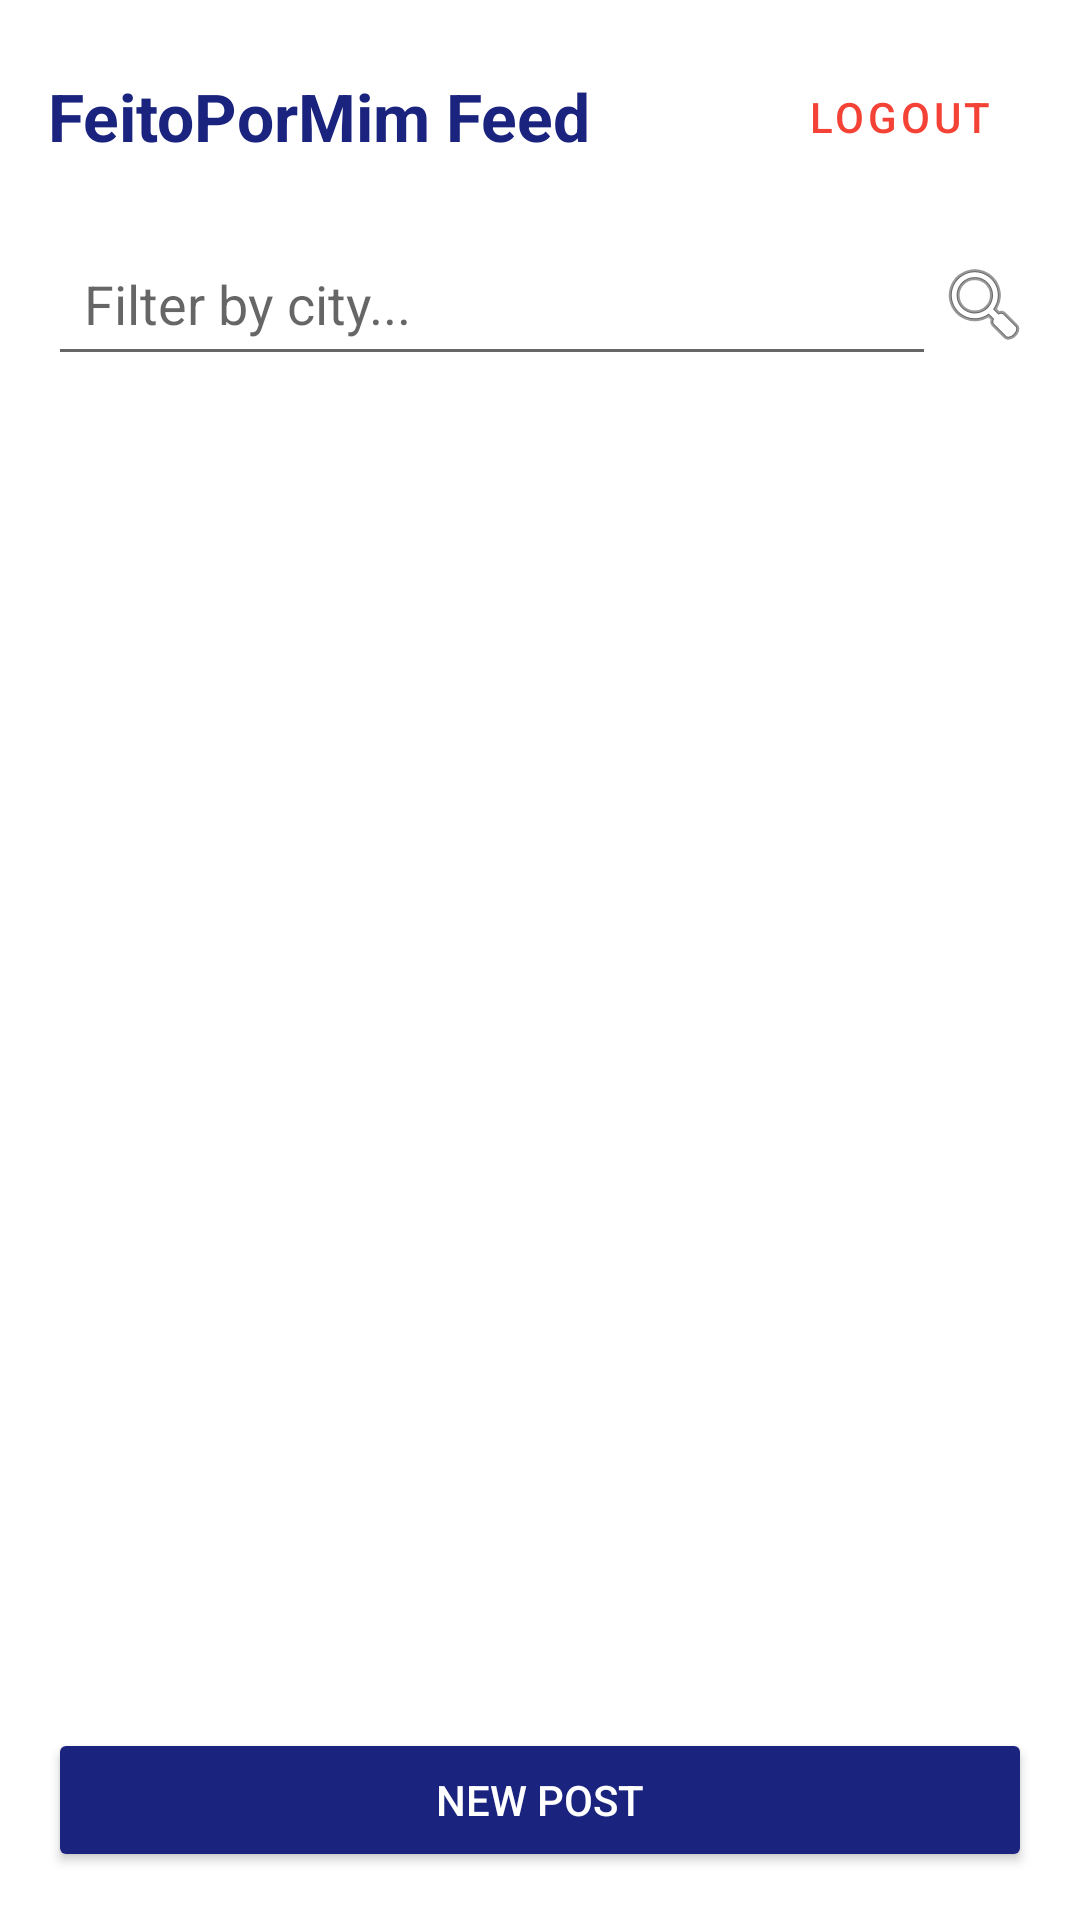

Where icons sit on this 1080px x 1920px app screen, as (x1, y1, x2, y2):
Search Icon: (948, 269, 1020, 340)
